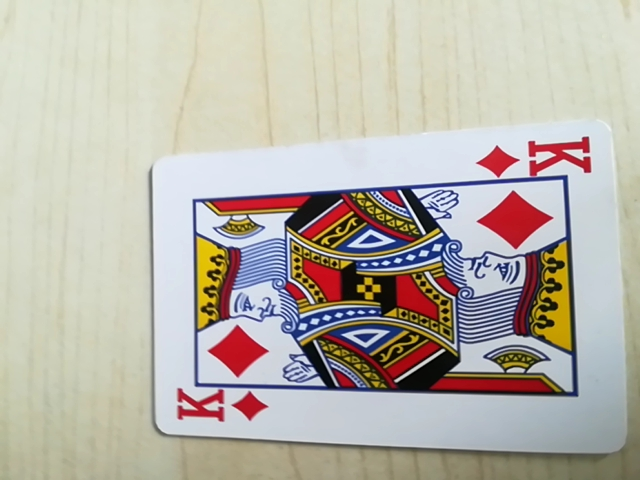fk k: (475, 132, 594, 182), (169, 381, 271, 432)
